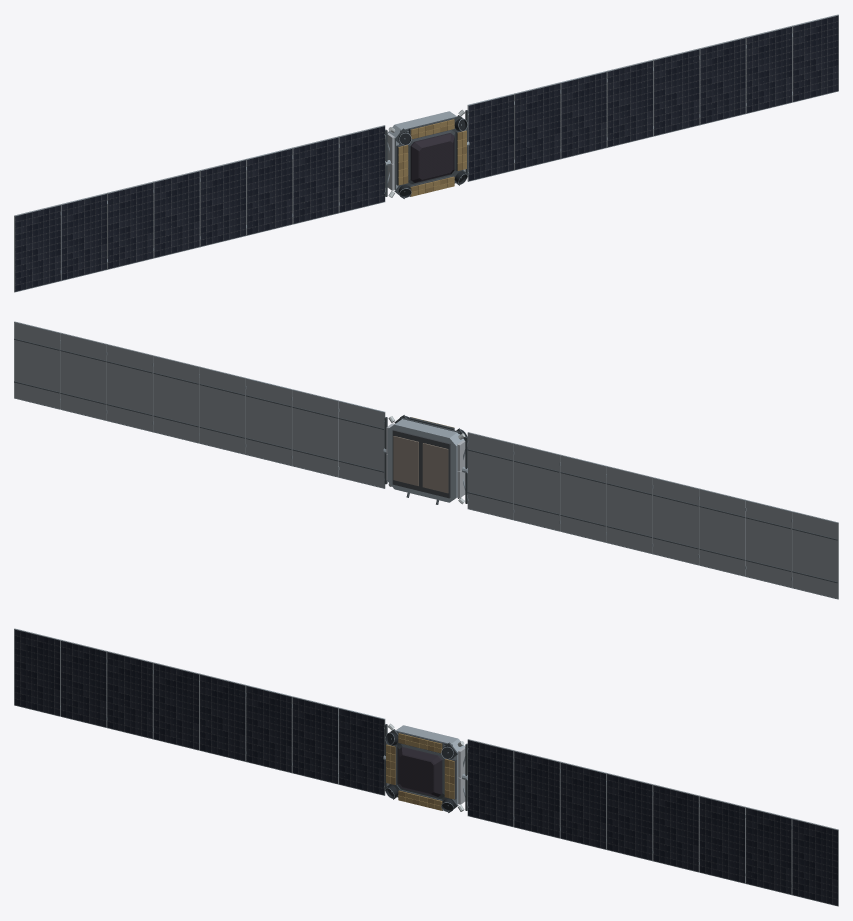
The model's file is ref-gravitas-68495.glb.
3 views of the same model, one above another, from view 1: azimuth 30°, elevation 25°; view 2: azimuth 150°, elevation 25°; view 3: azimuth 330°, elevation 25° (orthographic).
Visible parts, largest first — view 1: Photovoltaic module (×16), Raised central cover, Flat bus chassis; view 2: Wing module backing (×16), Rear equipment panel (×2), Flat bus chassis, Rear equipment face; view 3: Photovoltaic module (×16), Raised central cover, Flat bus chassis.
Boxes of the visible parts, box(x1,y1,x2,y2) form: Photovoltaic module (×16): box(15, 15, 838, 291); Raised central cover: box(410, 133, 454, 182); Flat bus chassis: box(388, 111, 464, 189); Wing module backing (×16): box(14, 321, 838, 598); Rear equipment panel (×2): box(393, 436, 448, 493); Flat bus chassis: box(387, 419, 464, 502); Rear equipment face: box(392, 429, 450, 498); Photovoltaic module (×16): box(14, 629, 837, 905); Raised central cover: box(398, 747, 442, 796); Flat bus chassis: box(388, 725, 464, 803).
Bounding box in the file's own units: 40 × 3.55 × 1.31.
Materials: 12 (2 with a texture image).
